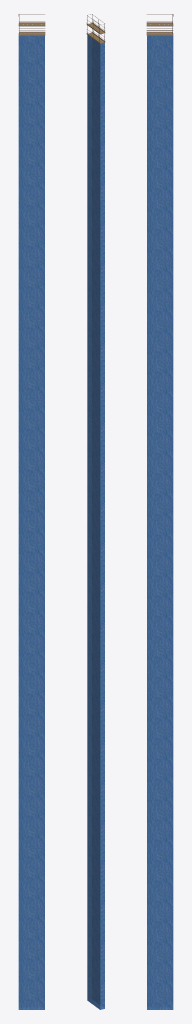
File: Scaffold.fbx
The picture shows the model from 3 angles, left to right: view 1: azimuth 90°, elevation 25°; view 2: azimuth 210°, elevation 25°; view 3: azimuth 270°, elevation 25°; orthographic projection.
Parts seen in each view (by area): view 1: Drapping1, Scaffold; view 2: Drapping1, Scaffold; view 3: Drapping1, Scaffold.
Part boxes in pixels (x1,y1,x2,y2): Drapping1: (18,33,44,1009); Scaffold: (18,14,45,35); Drapping1: (87,35,104,1009); Scaffold: (86,14,105,43); Drapping1: (147,33,173,1009); Scaffold: (146,14,173,35).
Size of the model in its own units: 20.31 by 3552 by 86.67.
4 materials, 4 textured.
